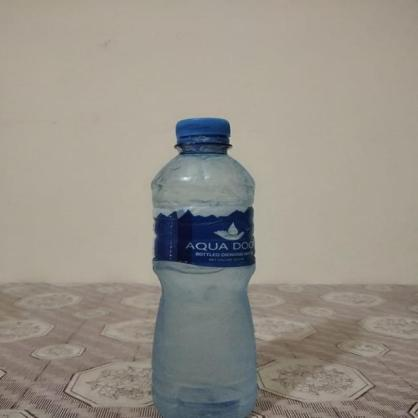bottle: (147, 105, 262, 418)
cap: (169, 118, 237, 146)
label: (150, 203, 258, 270)
